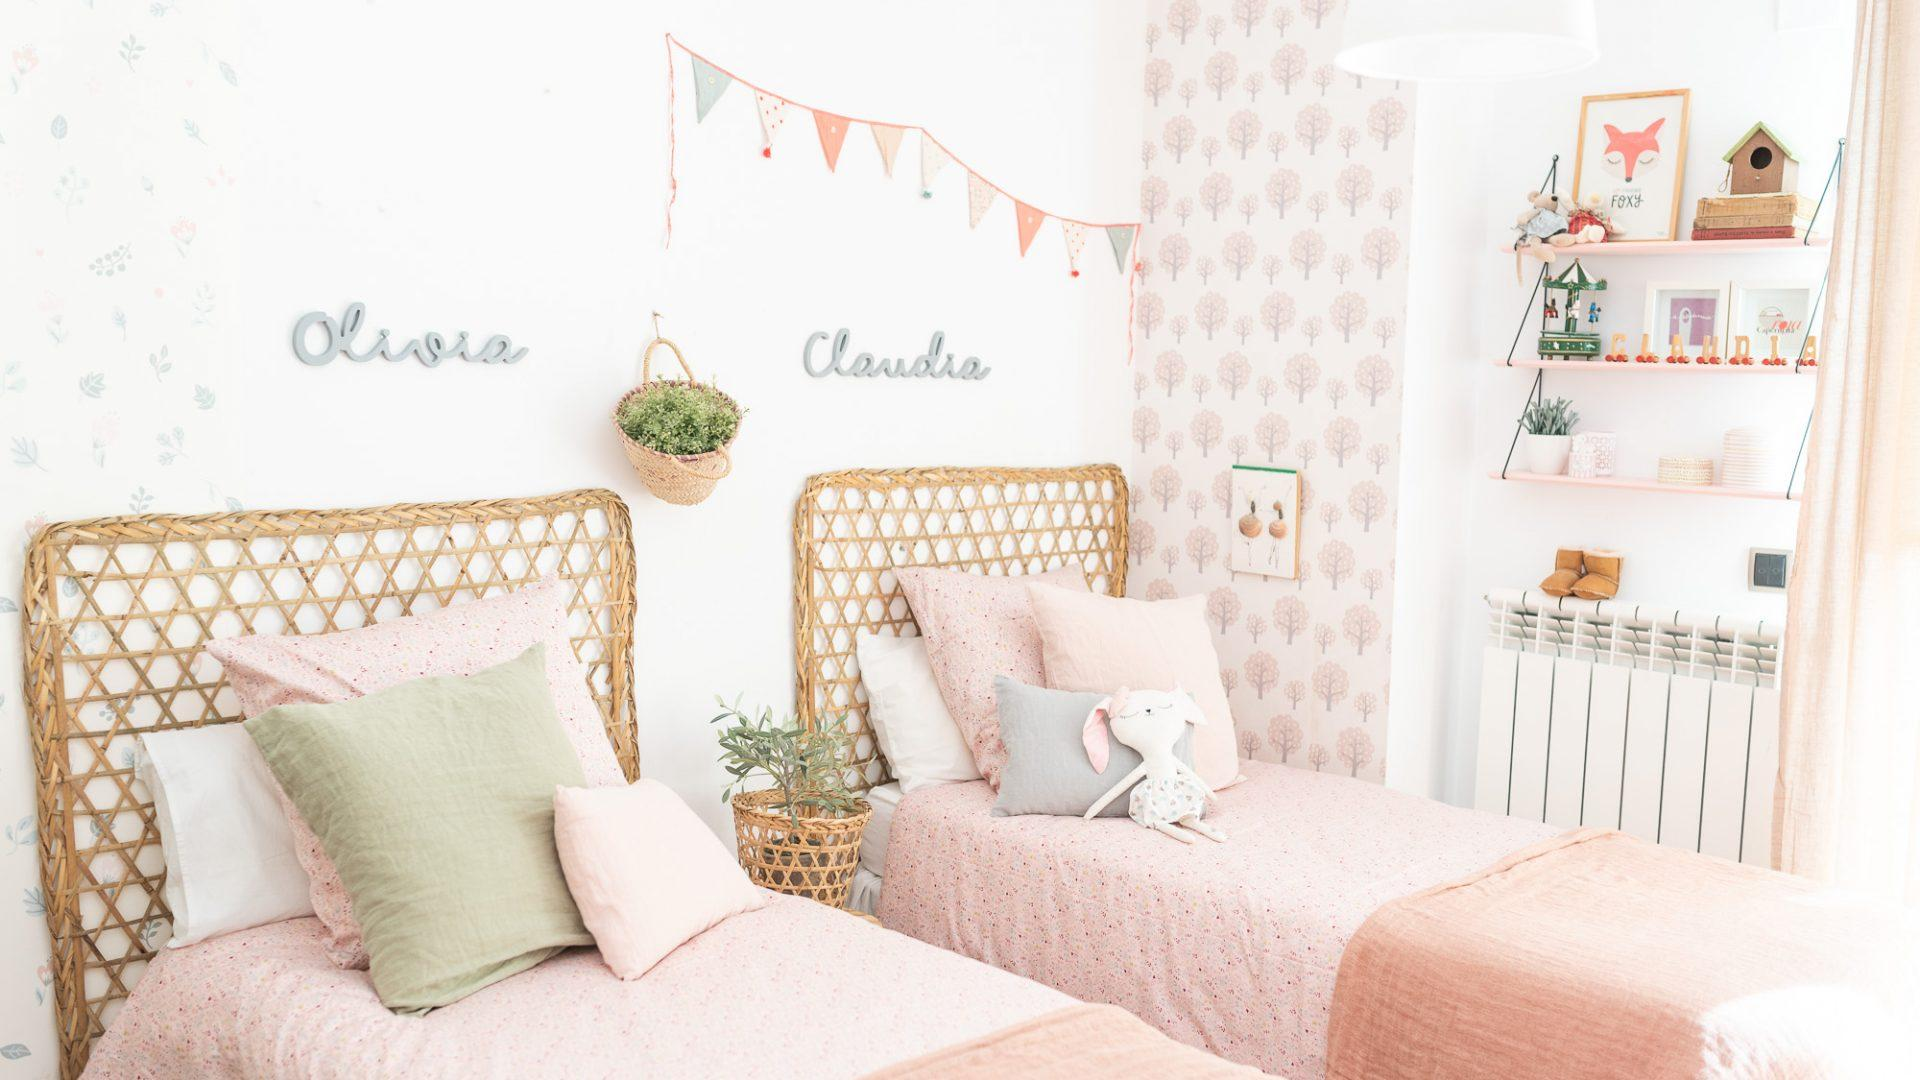bed: (840, 605, 1815, 899)
